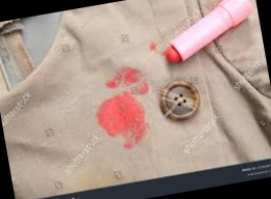lipstick: (92, 77, 155, 158), (100, 64, 152, 104), (144, 42, 159, 56)
